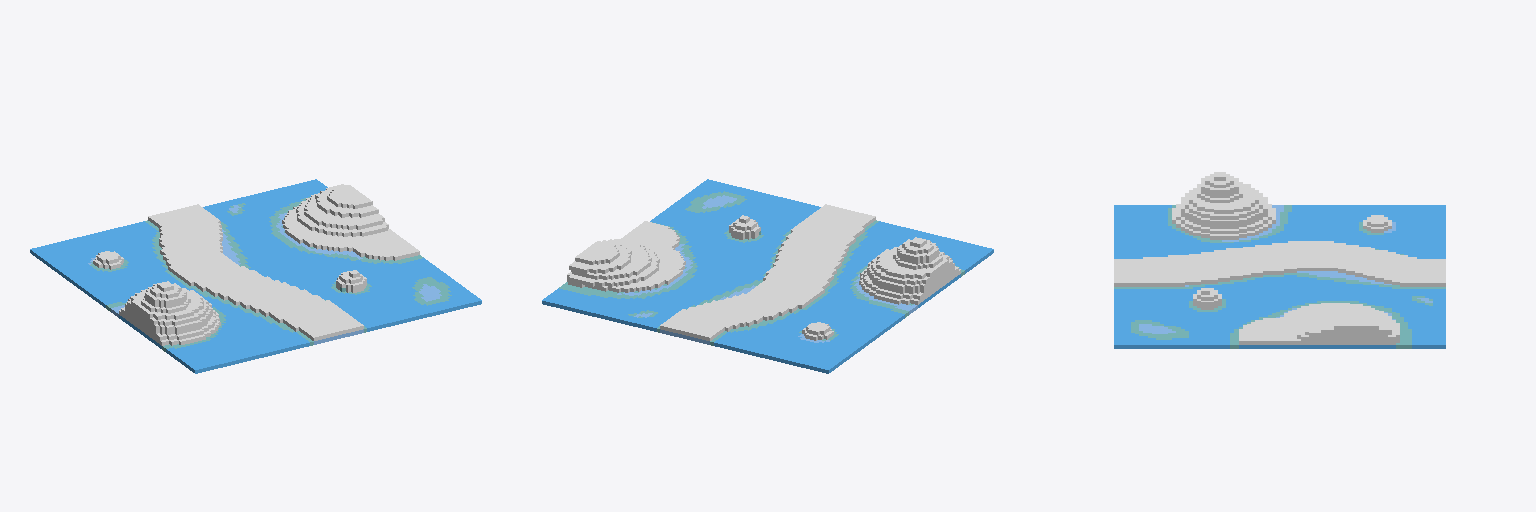
3 views of the same model, side by side, from view 1: azimuth 30°, elevation 25°; view 2: azimuth 150°, elevation 25°; view 3: azimuth 270°, elevation 25° (orthographic).
Visible parts, largest first — view 1: straightIce; view 2: straightIce; view 3: straightIce.
Part boxes in pixels (bbox=[...]): straightIce: bbox=[30, 179, 481, 373]; straightIce: bbox=[542, 179, 993, 373]; straightIce: bbox=[1114, 172, 1445, 348].
Bounding box in the file's own units: 80 × 12 × 80.
1 materials, 1 textured.